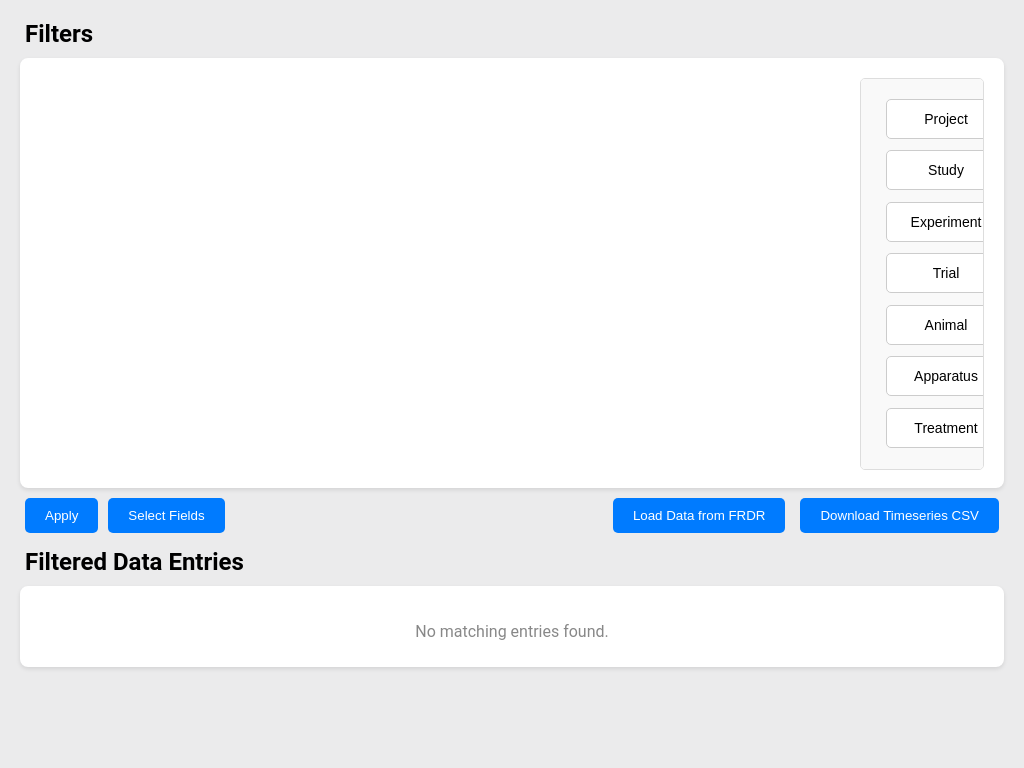
it: FRDRQuery Component › opens and closes FieldSelector modal
The image size is (1024, 768).
Click the button "Select Fields".
click(166, 516)  # box [108,498,225,533]
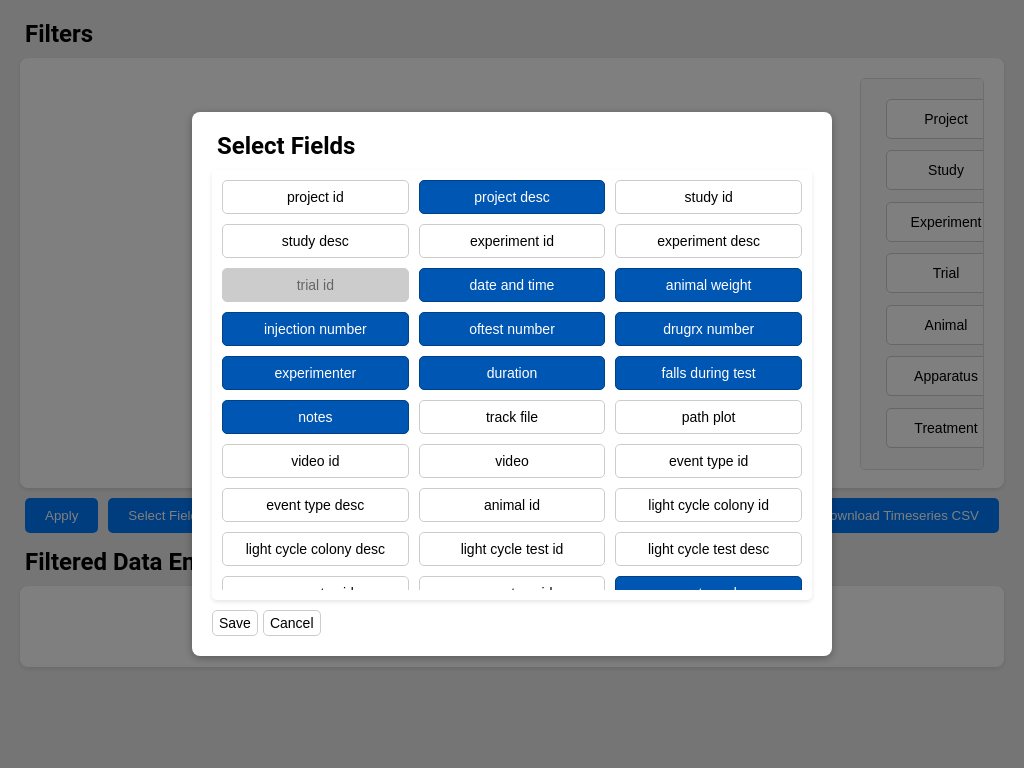
Note: Click cancel button
Click the button "Cancel".
click(292, 623)  # box [263,610,320,636]
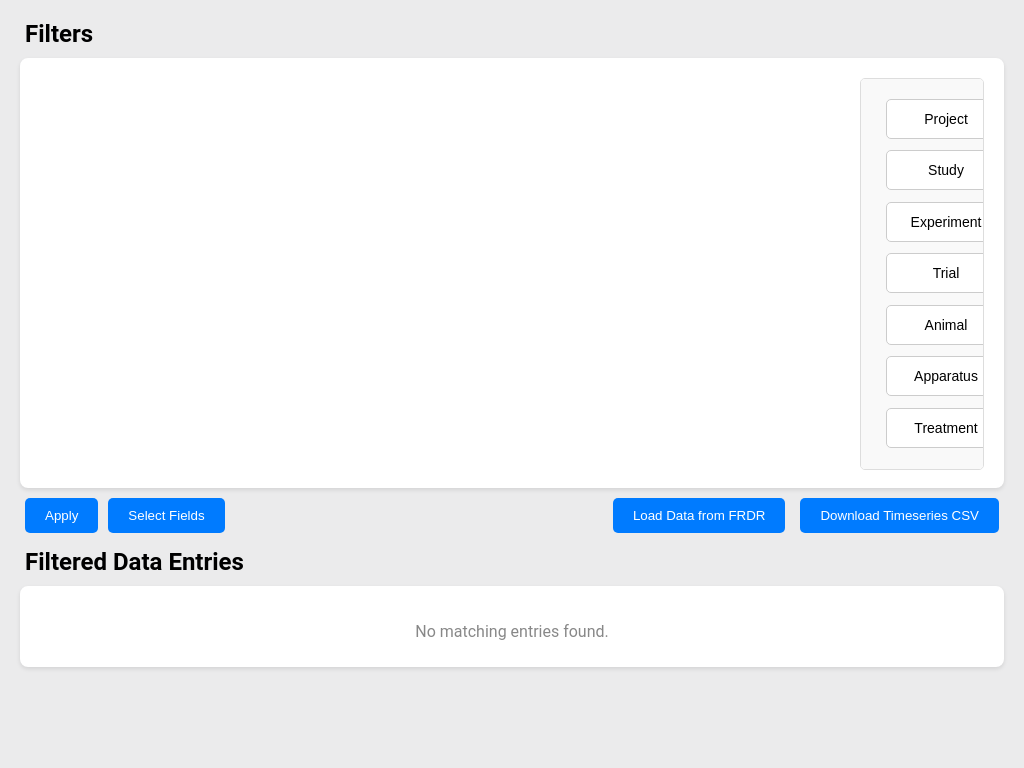
Now the button "Cancel" is gone
